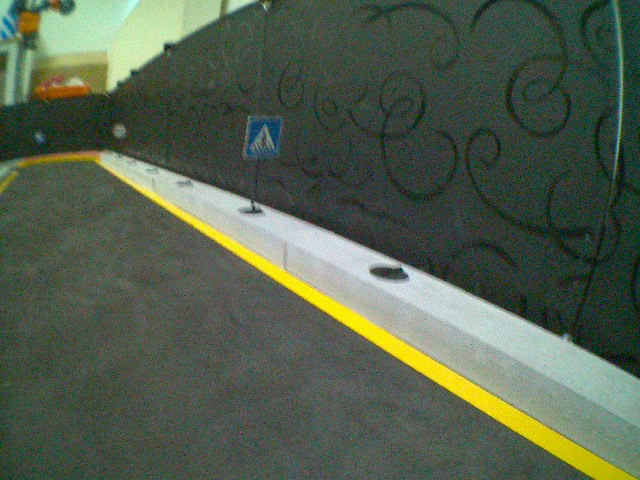crossing: (243, 113, 284, 160)
